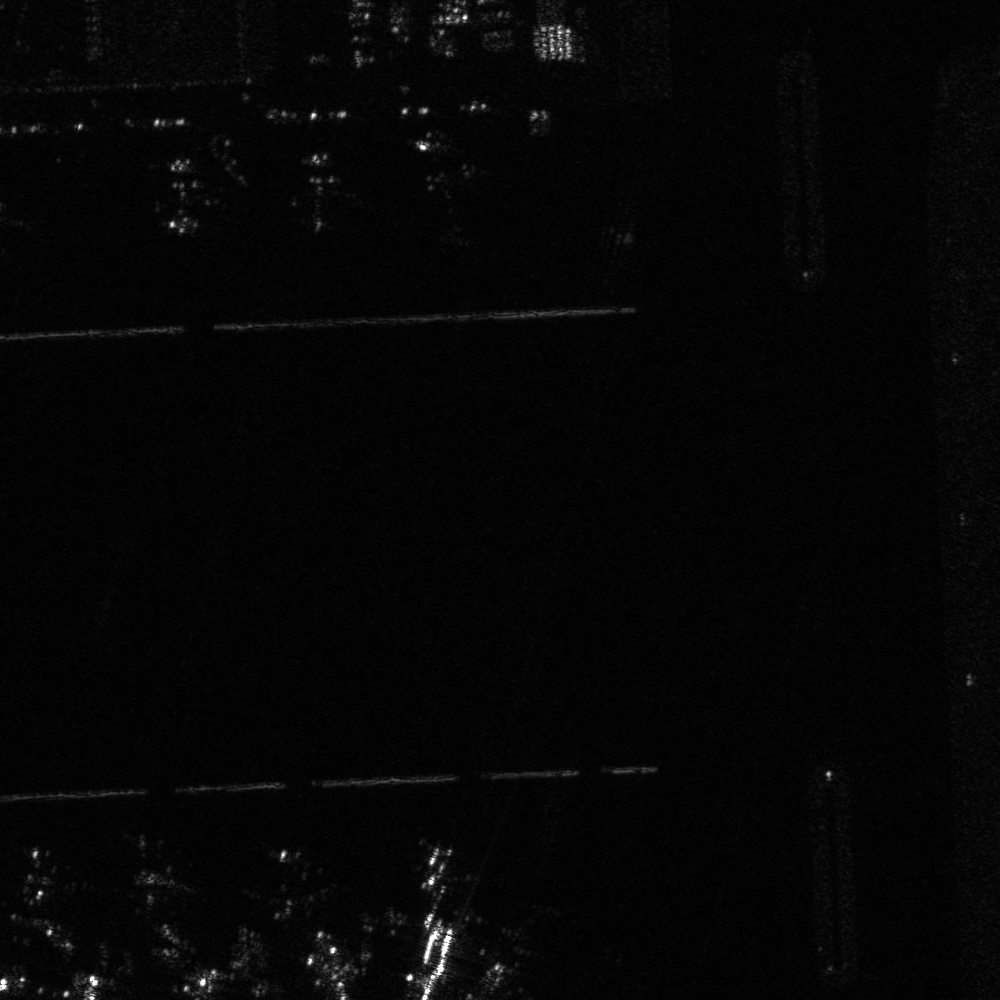A320/321: (245, 847, 340, 920), (122, 841, 204, 918), (391, 839, 480, 903)
Boeing737: (411, 130, 488, 242), (284, 150, 356, 240)
other: (15, 848, 100, 960), (150, 157, 224, 238)
